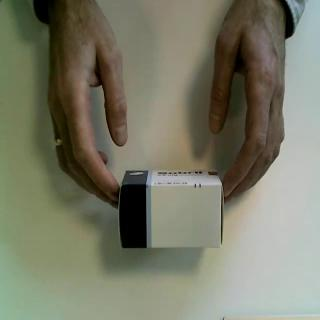sobril25mg: (118, 168, 227, 252)
